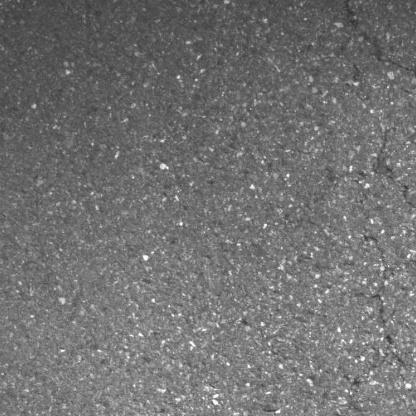Cracks: (341, 0, 416, 142)
